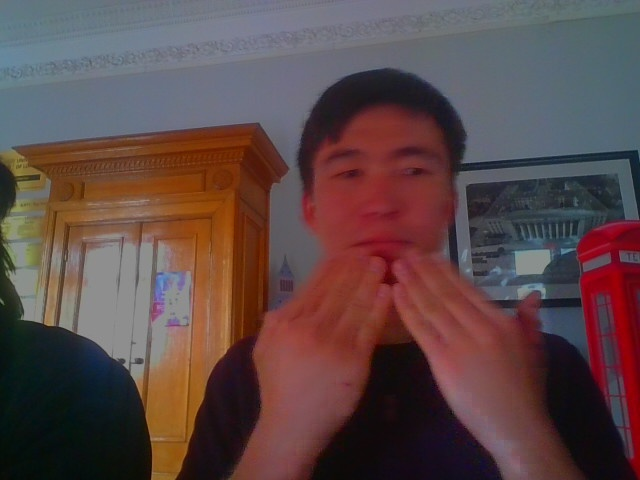thanks: (216, 241, 573, 413)
